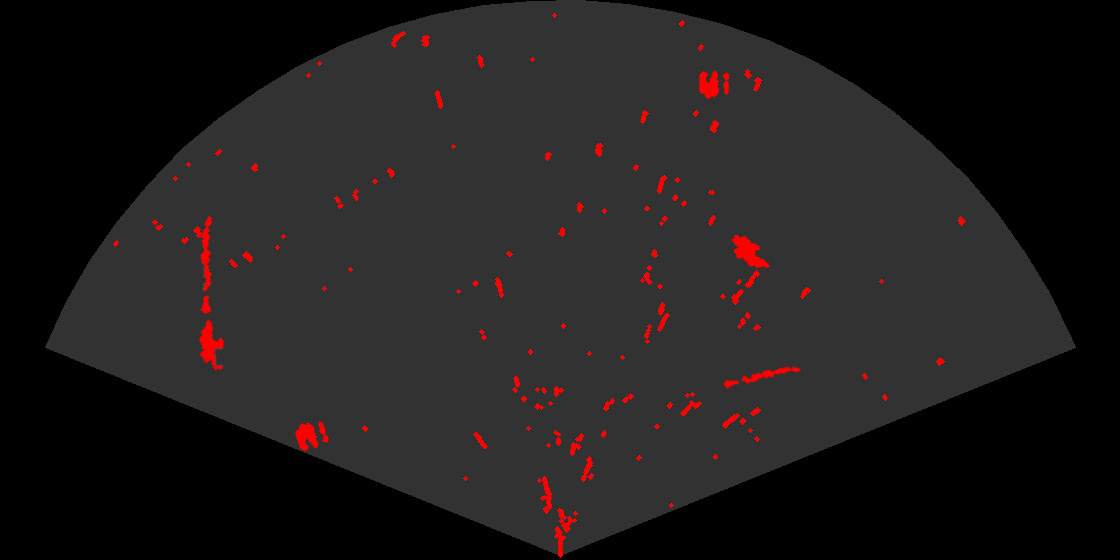AUV: (730, 233, 771, 270), (198, 318, 226, 372)
ball: (293, 420, 330, 453), (698, 69, 731, 100)
chain: (719, 365, 803, 390), (199, 214, 214, 314)
